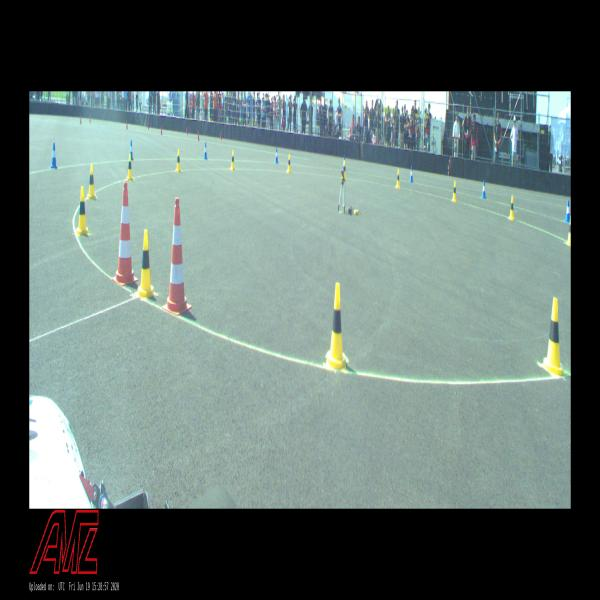blue_cone: (50, 143, 58, 169), (564, 199, 571, 224), (128, 140, 134, 161), (203, 142, 208, 161), (481, 180, 486, 199), (274, 147, 279, 164), (409, 166, 414, 183), (342, 154, 346, 172)
large_orange_cone: (162, 197, 192, 316), (111, 182, 138, 286)
yellow_cone: (540, 298, 567, 376), (326, 282, 346, 371), (136, 230, 156, 298), (76, 186, 89, 236), (87, 163, 97, 200), (126, 154, 134, 181), (175, 149, 182, 173), (509, 195, 515, 220), (451, 181, 457, 202), (286, 154, 292, 174), (566, 215, 570, 245), (230, 149, 235, 171), (395, 169, 400, 189), (342, 159, 346, 179)
